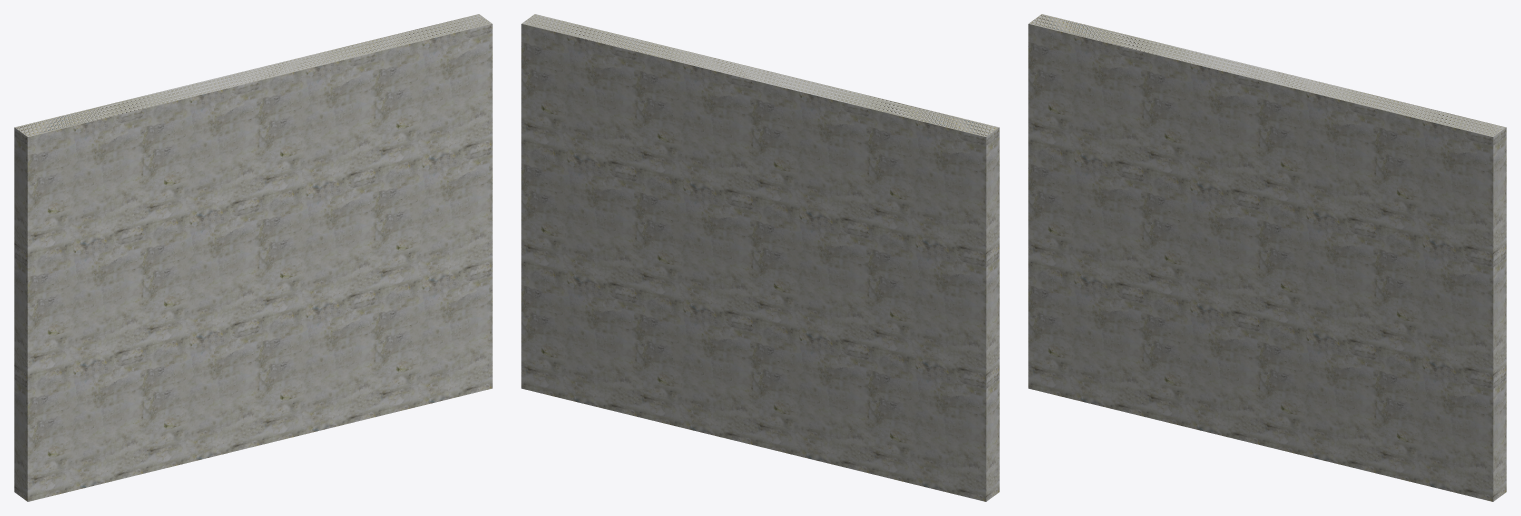
Rendered from wall-plain.gltf.
3 views of the same model, side by side, from view 1: azimuth 30°, elevation 25°; view 2: azimuth 150°, elevation 25°; view 3: azimuth 330°, elevation 25° (orthographic).
Parts seen in each view (by area): view 1: wall-plain; view 2: wall-plain; view 3: wall-plain.
Part boxes in pixels (bbox=[...]): wall-plain: bbox=[14, 14, 492, 501]; wall-plain: bbox=[521, 14, 999, 501]; wall-plain: bbox=[1028, 14, 1506, 501].
Size of the model in its own units: 4 by 3 by 0.2.
Materials: 1 (1 with a texture image).
